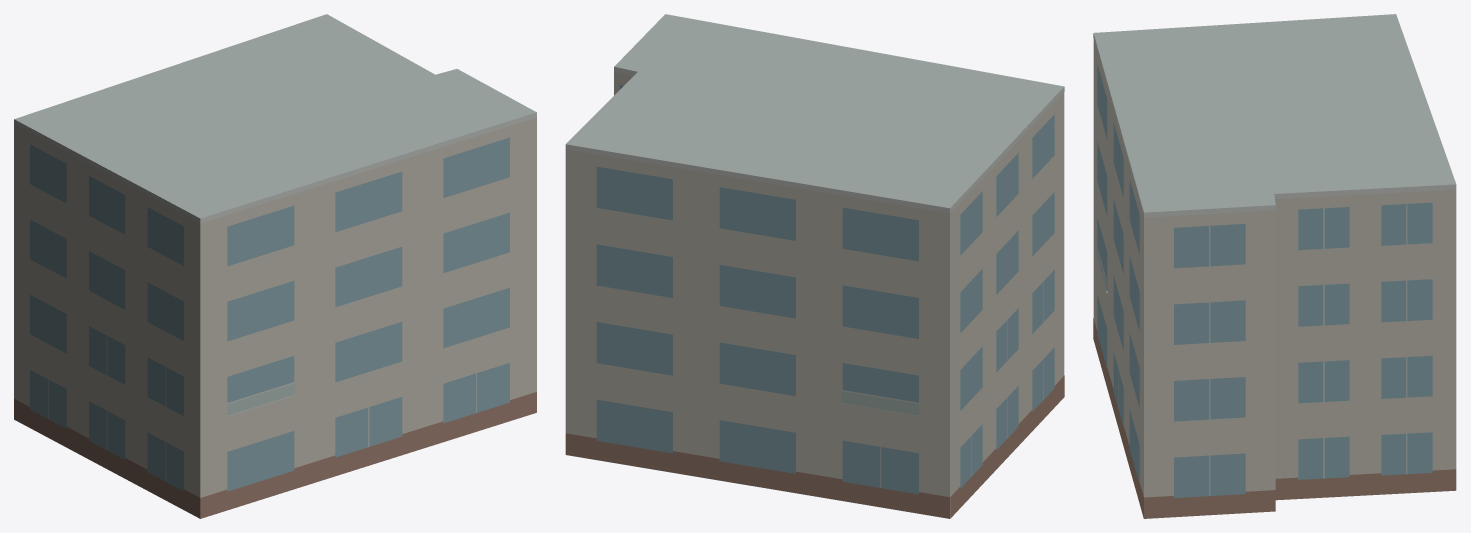
File: survey-upis-32840589.glb
3 views of the same model, side by side, from view 1: azimuth 30°, elevation 25°; view 2: azimuth 150°, elevation 25°; view 3: azimuth 270°, elevation 25° (orthographic). The views are drawn at different scales.
Parts seen in each view (by area): view 1: survey-upis-32840589.tmp; view 2: survey-upis-32840589.tmp; view 3: survey-upis-32840589.tmp.
Boxes of the visible parts, <box> form: survey-upis-32840589.tmp: <box>14,14,536,518</box>; survey-upis-32840589.tmp: <box>565,14,1064,518</box>; survey-upis-32840589.tmp: <box>1093,14,1456,518</box>.
Bounding box in the file's own units: 20.12 × 14.46 × 15.54.
